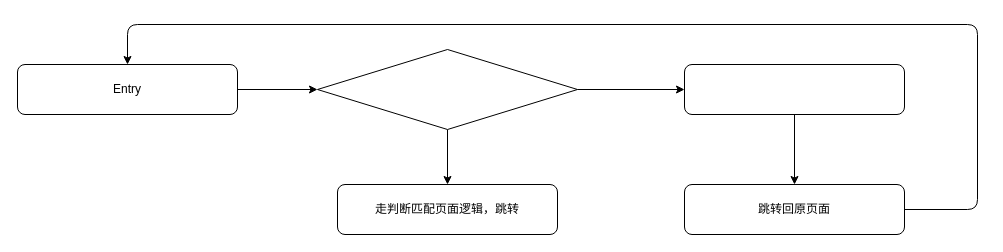
Image size: 1003x252. Some labels were removed from this diagram. Each missing label, with the centre of its shape:
"是否有登陆信息" belongs at (447,89).
"跳转到Login页面进行登陆" belongs at (794,89).
